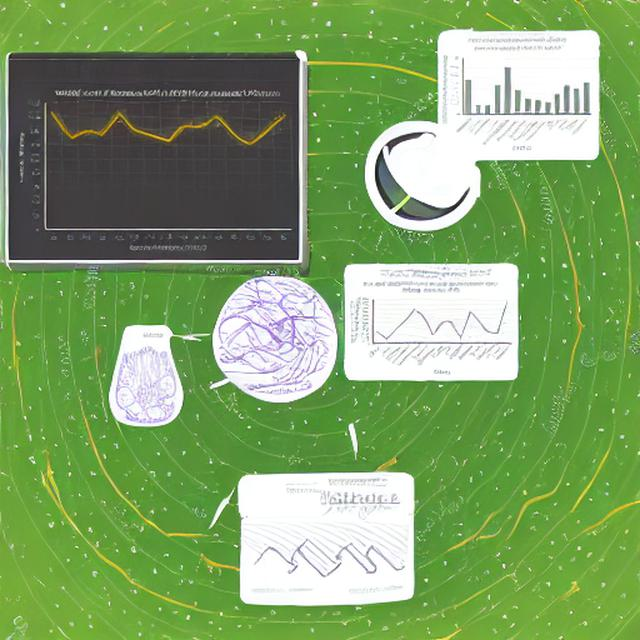Graph: (12, 79, 299, 260), (440, 35, 594, 152), (348, 278, 515, 378), (317, 476, 399, 521)
